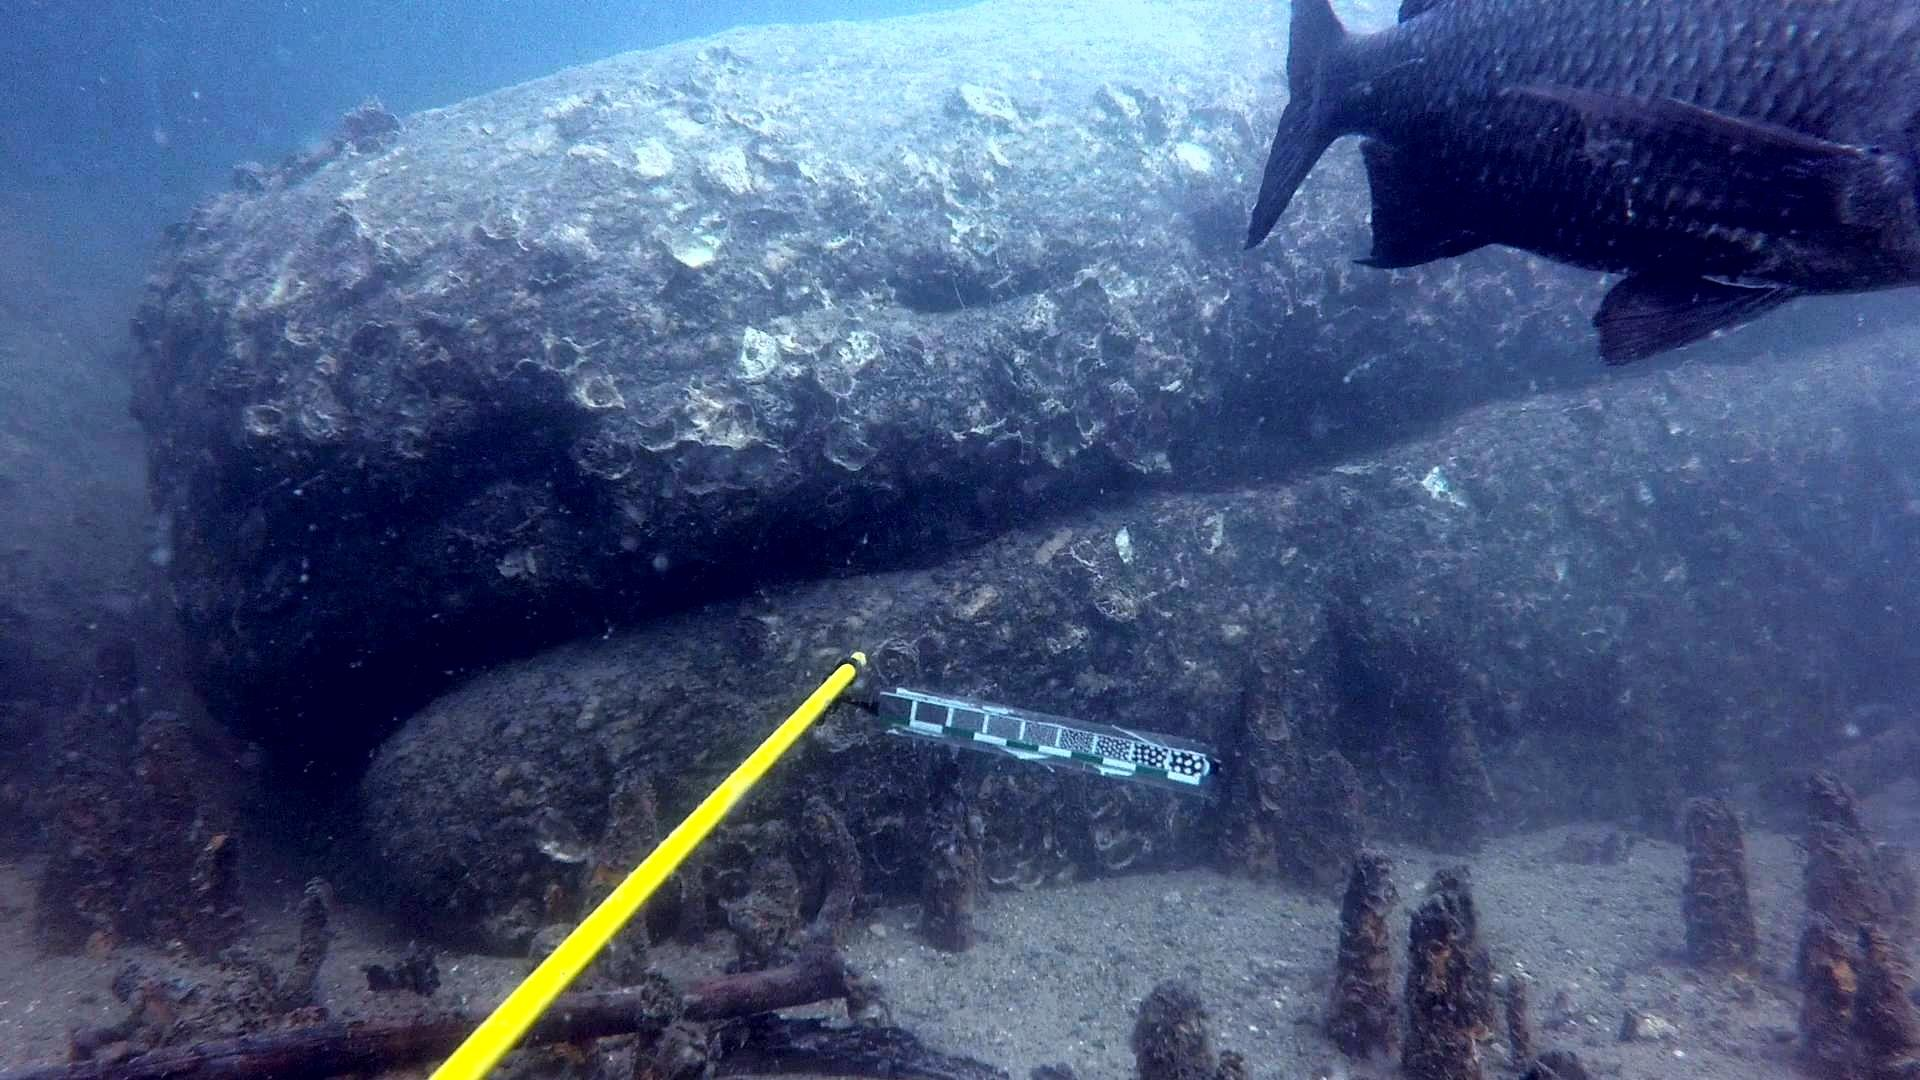acanthopagrus palmaris: (1236, 0, 1920, 371)
